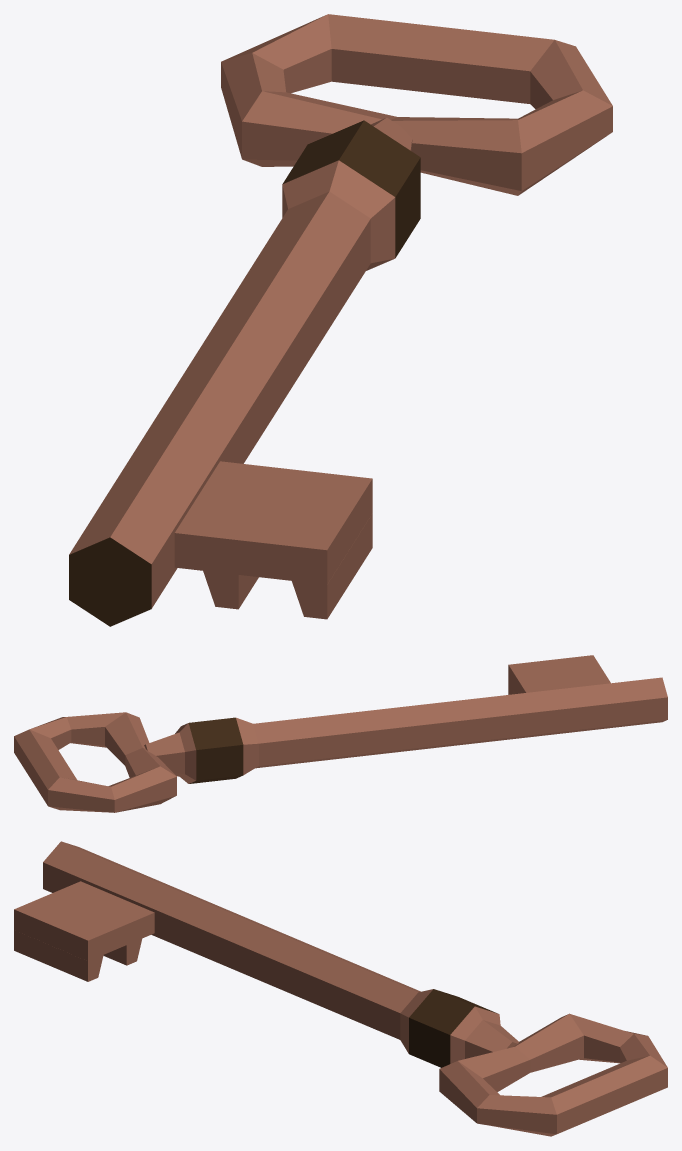
File: GunClosetKey_3D.glb
3 views of the same model, one above another, from view 1: azimuth 30°, elevation 25°; view 2: azimuth 150°, elevation 25°; view 3: azimuth 270°, elevation 25° (orthographic). The views are drawn at different scales.
Parts seen in each view (by area): view 1: GunsClosetKeyLowPoly; view 2: GunsClosetKeyLowPoly; view 3: GunsClosetKeyLowPoly.
Boxes of the visible parts, bbox=[...] form: GunsClosetKeyLowPoly: bbox=[69, 14, 612, 626]; GunsClosetKeyLowPoly: bbox=[14, 655, 667, 812]; GunsClosetKeyLowPoly: bbox=[14, 841, 667, 1136].
Bounding box in the file's own units: 0.1251 × 0.0161 × 0.1309.
Materials: 1 (1 with a texture image).
